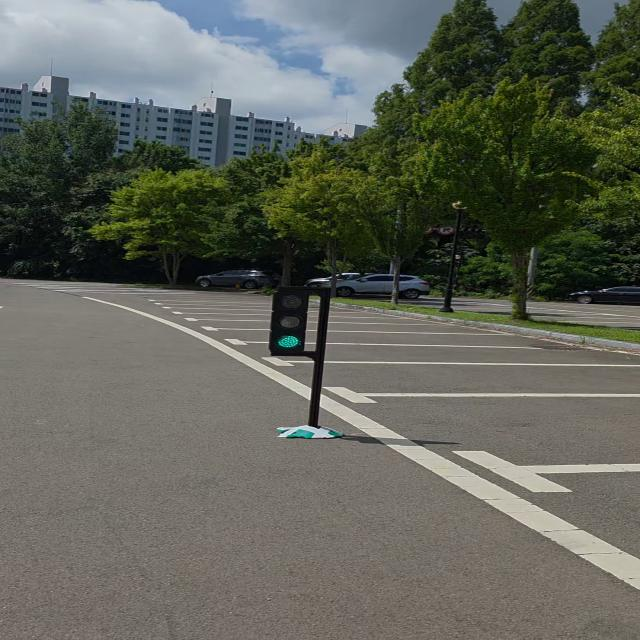green: (265, 288, 314, 358)
